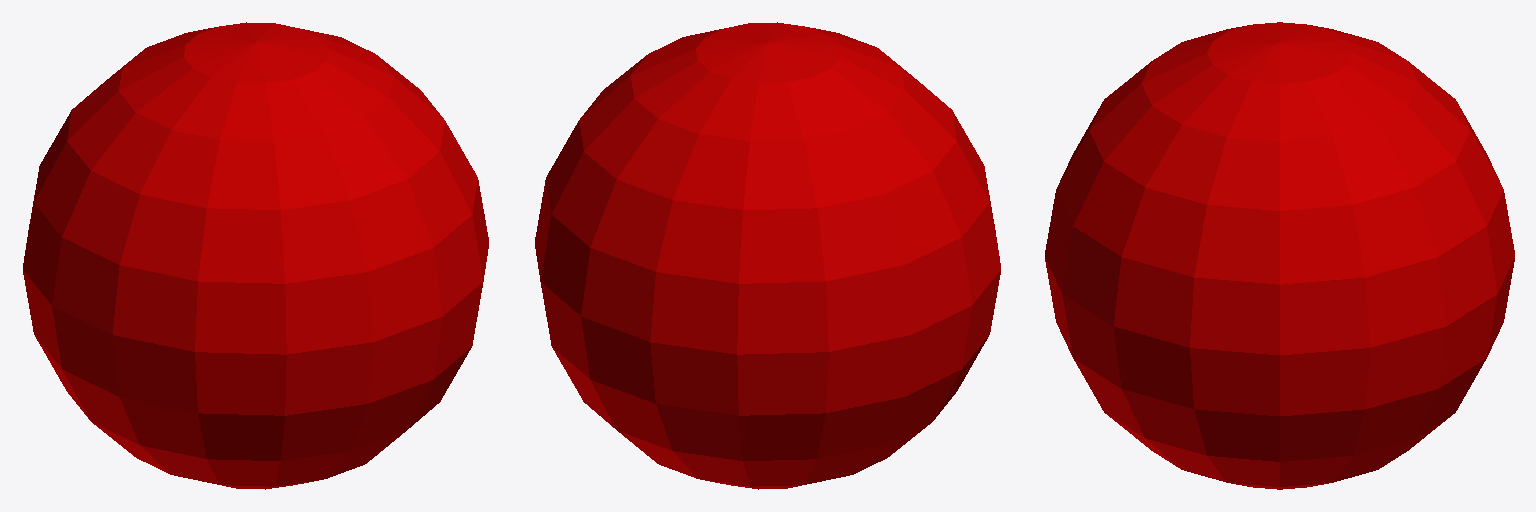
The model's file is smooth_sphere.obj.
The picture shows the model from 3 angles: view 1: azimuth 30°, elevation 25°; view 2: azimuth 150°, elevation 25°; view 3: azimuth 270°, elevation 25°; orthographic projection.
Parts seen in each view (by area): view 1: Sphere; view 2: Sphere; view 3: Sphere.
Part boxes in pixels (x1,y1,x2,y2): Sphere: (23, 22, 488, 489); Sphere: (535, 22, 1000, 489); Sphere: (1045, 22, 1514, 489).
Size of the model in its own units: 2 by 2 by 2.